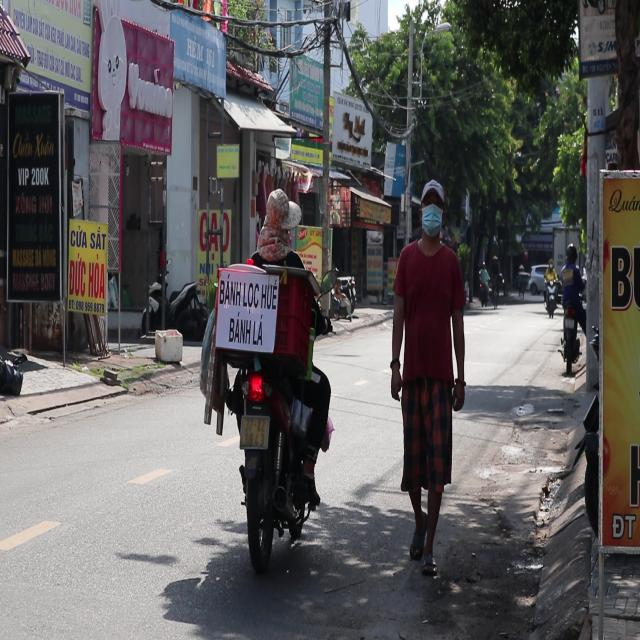licenseplate: (198, 188, 335, 578)
motorcyclist: (260, 188, 301, 255)
nohelmet: (240, 416, 269, 448)
